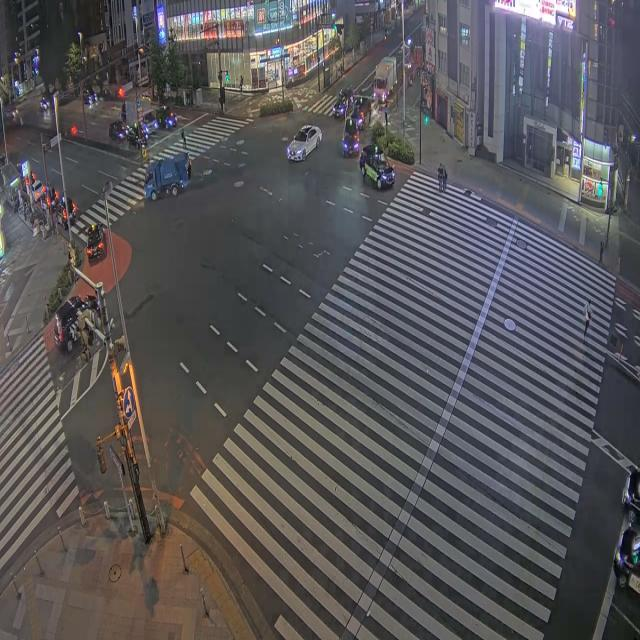car: (54, 295, 97, 351), (614, 527, 640, 593), (359, 144, 395, 189), (287, 125, 321, 160), (86, 224, 105, 262), (56, 194, 77, 227), (352, 96, 372, 129), (343, 118, 358, 157), (333, 88, 353, 117), (127, 123, 148, 148), (156, 105, 176, 128), (142, 111, 159, 133), (109, 120, 126, 140), (32, 180, 45, 201), (3, 105, 18, 122), (83, 88, 97, 106), (40, 96, 51, 111)
motorcycle: (622, 469, 639, 521)
truck: (374, 56, 397, 102)
